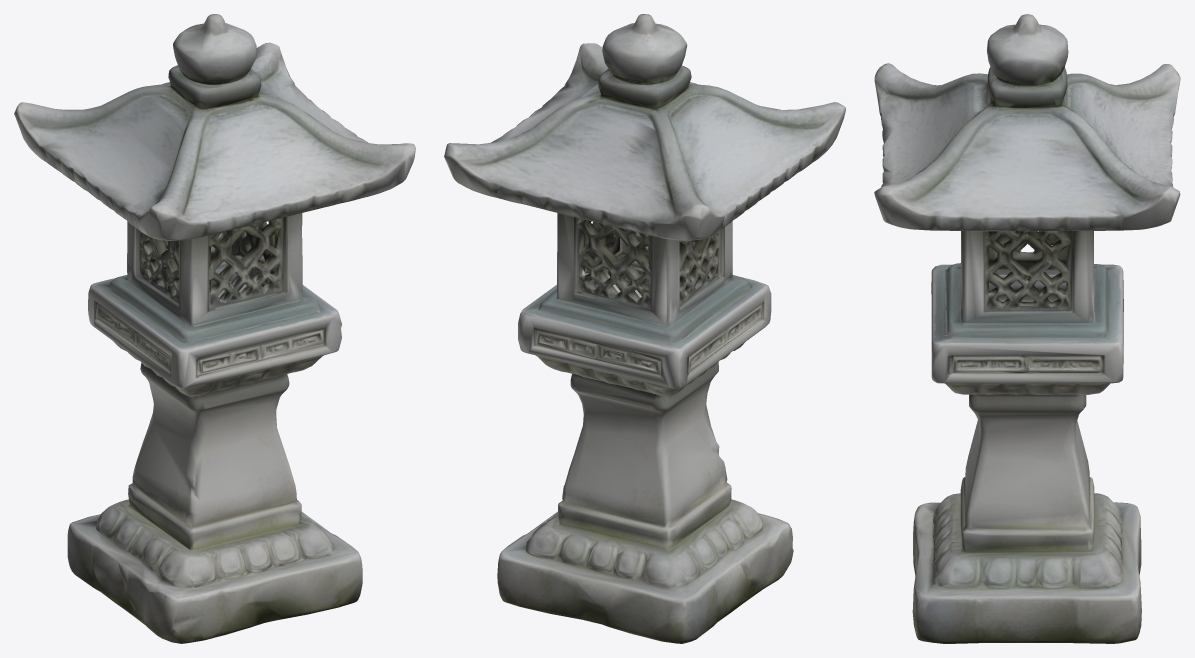
The model's file is lantern.glb.
The picture shows the model from 3 angles, left to right: view 1: azimuth 30°, elevation 25°; view 2: azimuth 150°, elevation 25°; view 3: azimuth 270°, elevation 25°; orthographic projection. The views are drawn at different scales.
Visible parts, largest first — view 1: node_0; view 2: node_0; view 3: node_0.
Boxes of the visible parts, box(x1,y1,x2,y2) form: node_0: box(14, 14, 415, 643); node_0: box(444, 14, 845, 643); node_0: box(874, 14, 1180, 643).
Size of the model in its own units: 0.5798 by 1.2 by 0.5721.
1 material, 1 textured.
